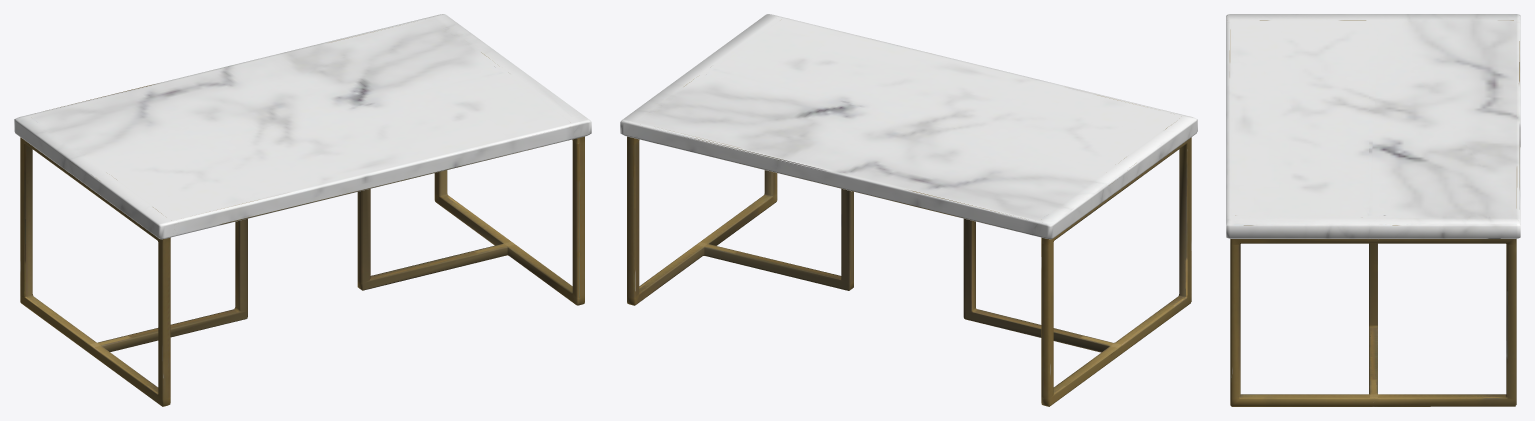
File: Table_Coffee_White_Marble_20InchesTall_0222191715_texture.glb
3 views of the same model, side by side, from view 1: azimuth 30°, elevation 25°; view 2: azimuth 150°, elevation 25°; view 3: azimuth 270°, elevation 25° (orthographic).
Visible parts, largest first — view 1: Mesh_0.002; view 2: Mesh_0.002; view 3: Mesh_0.002.
Part boxes in pixels (<box>): Mesh_0.002: <box>14,14,591,406</box>; Mesh_0.002: <box>620,14,1197,406</box>; Mesh_0.002: <box>1226,14,1520,406</box>.
Bounding box in the file's own units: 1.24 × 0.508 × 0.7326.
Materials: 1 (1 with a texture image).
